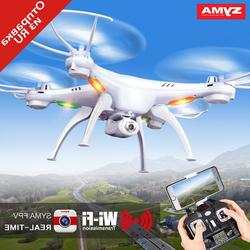drone: (1, 8, 250, 175)
